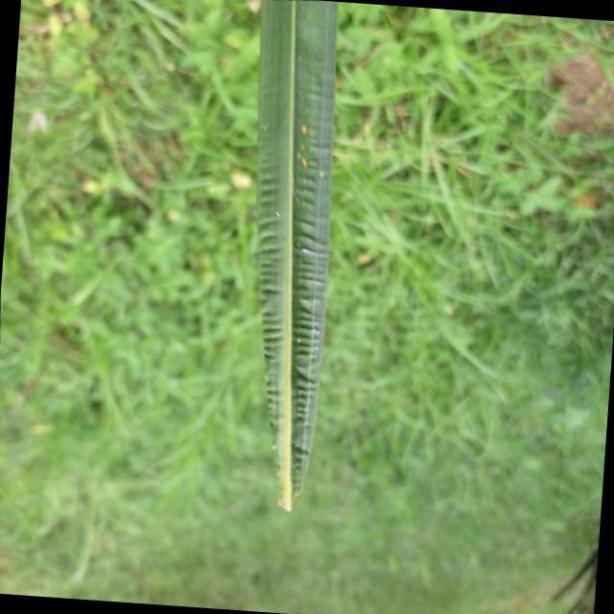Boron: (251, 0, 342, 508)
